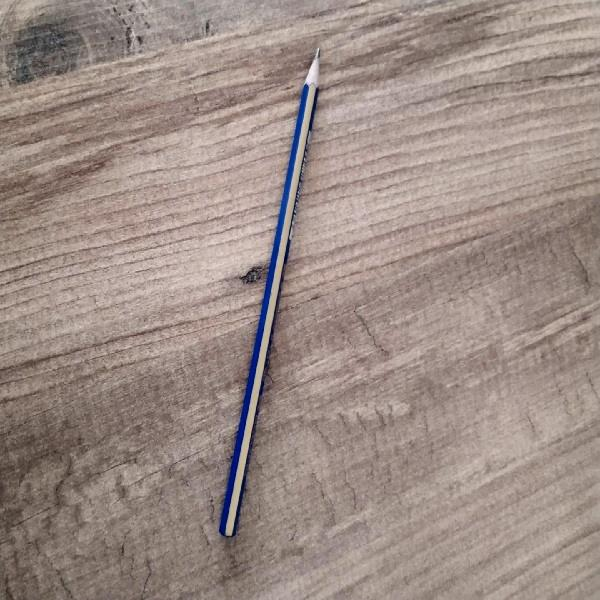pencil: (210, 48, 327, 537)
